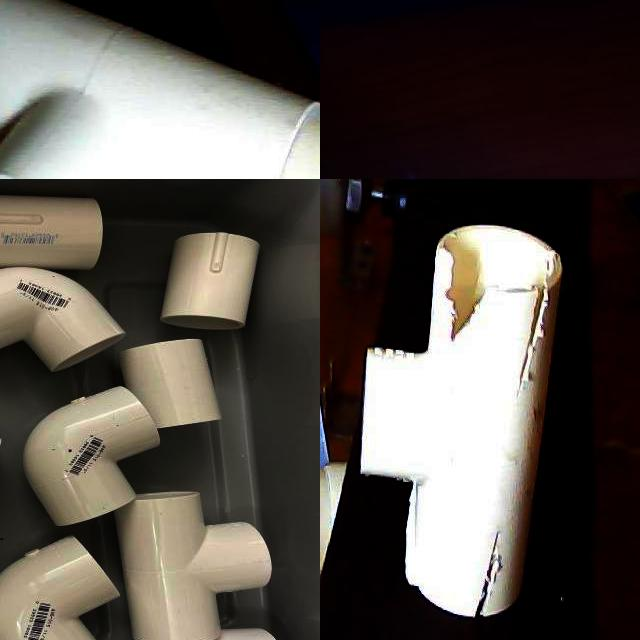Defective: (445, 459, 517, 629), (523, 232, 566, 412), (438, 231, 505, 346), (393, 434, 433, 592)
L Joint: (0, 266, 126, 375), (0, 536, 121, 640)
T Joint: (359, 224, 564, 620), (118, 494, 270, 640), (21, 386, 162, 529)
